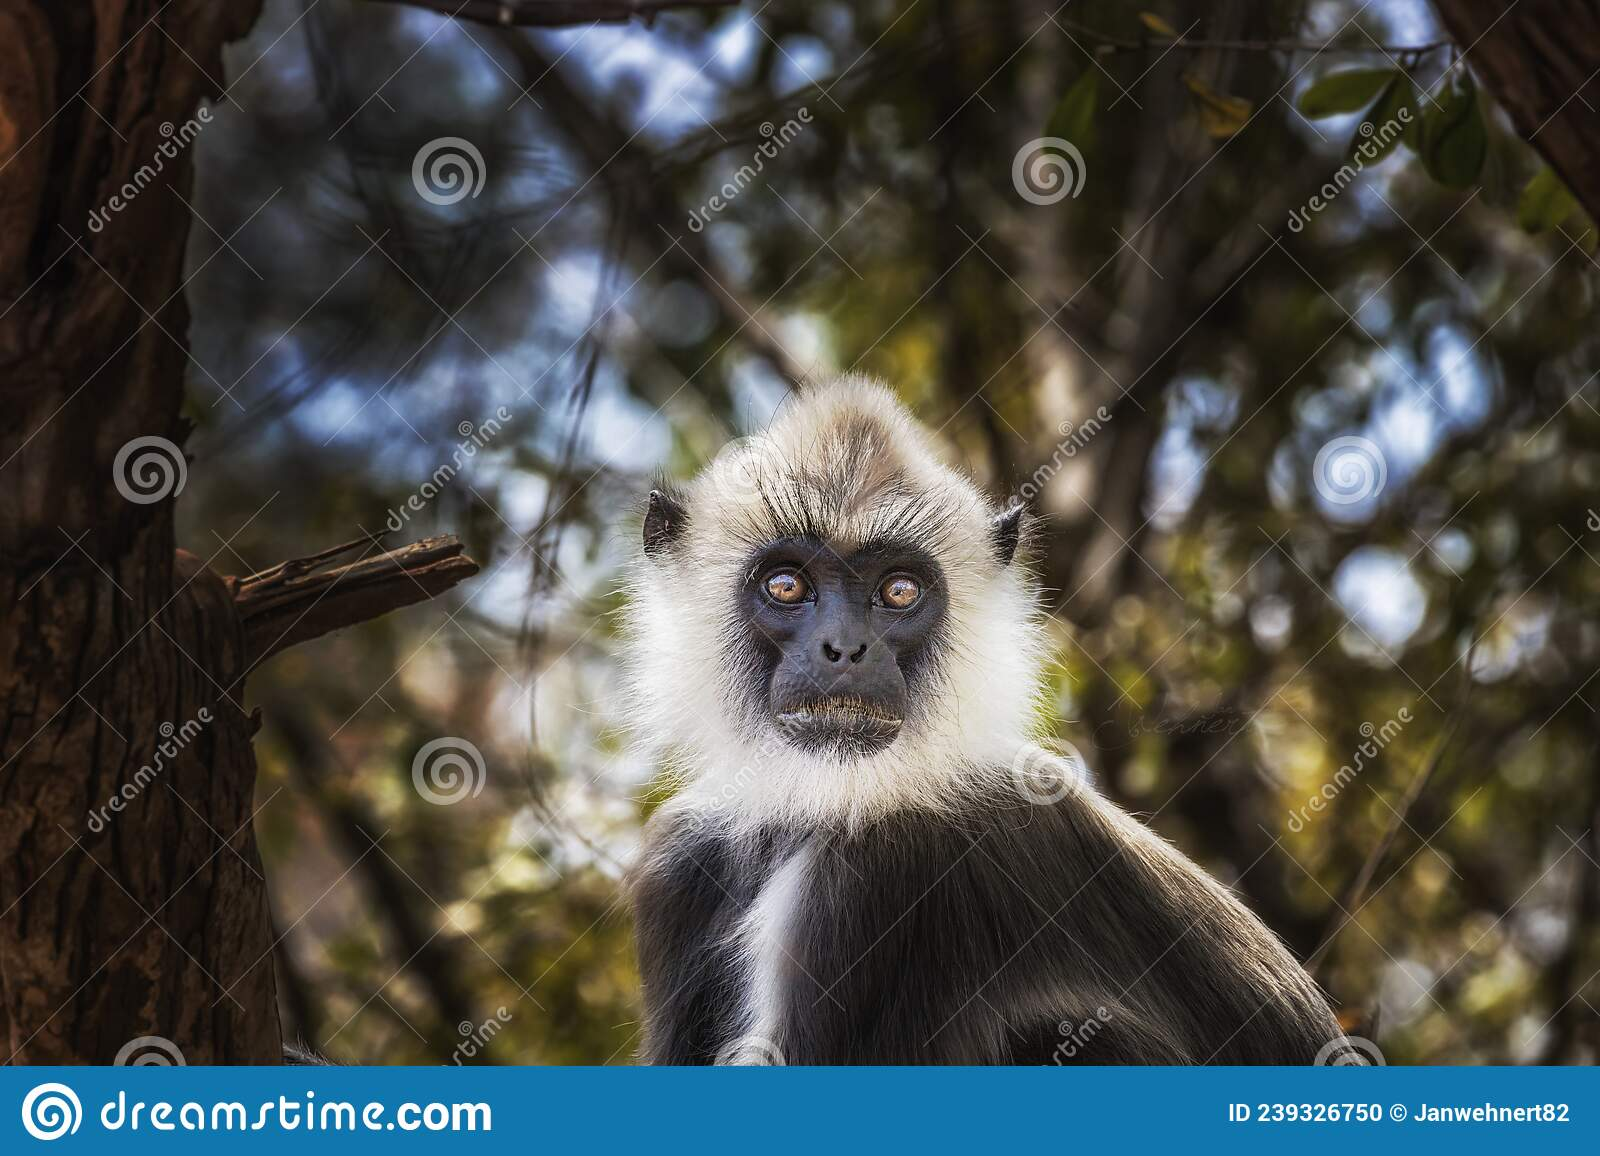Monkey: (583, 358, 1368, 1058)
